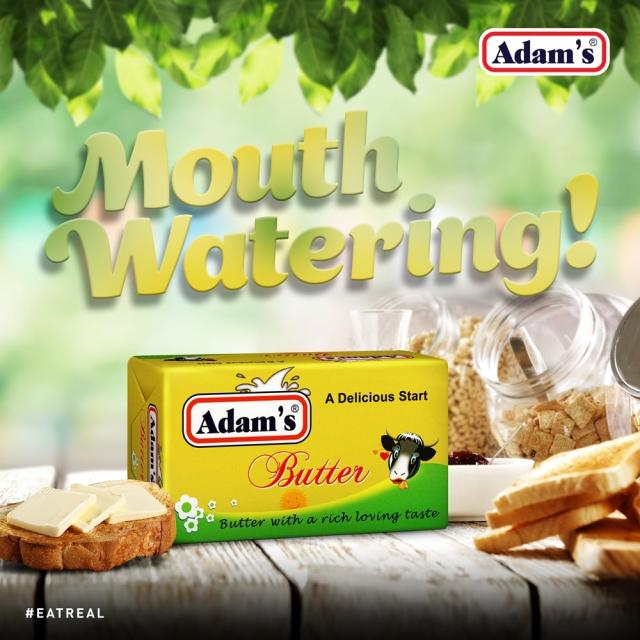butter: (126, 349, 449, 544)
